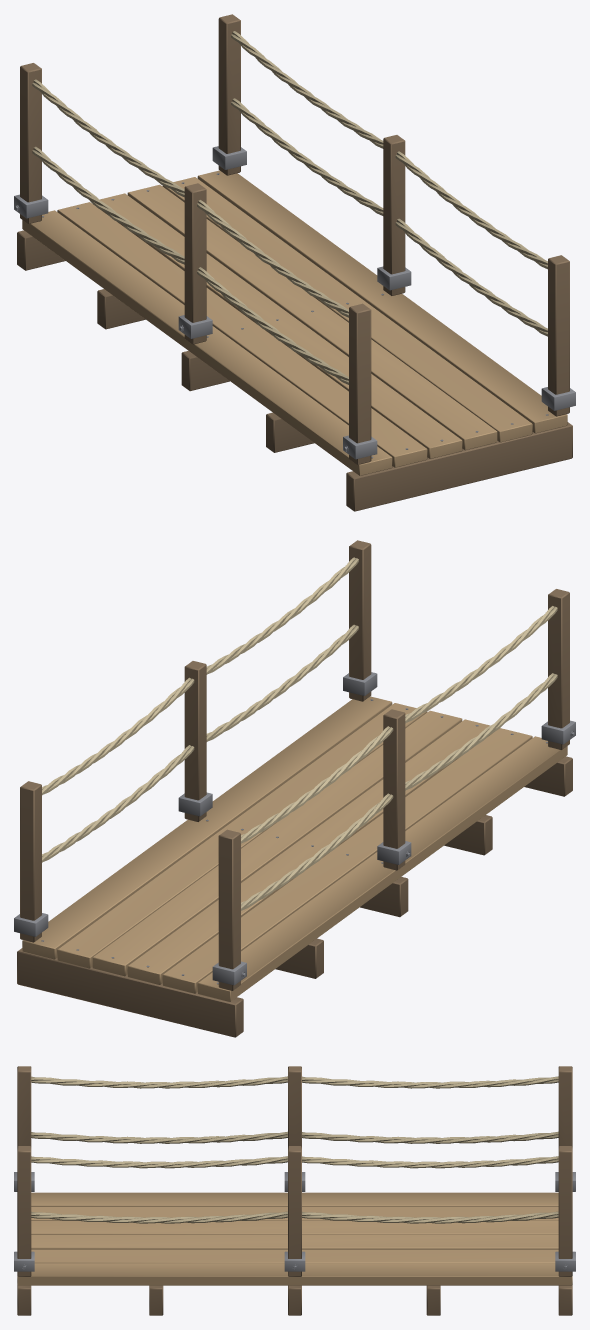
The model's file is rig_walkway_4m.glb.
3 renders of one model, top to bottom at view 1: azimuth 30°, elevation 25°; view 2: azimuth 150°, elevation 25°; view 3: azimuth 270°, elevation 25°, orthographic. The views are drawn at different scales.
Visible parts, largest first — view 1: rig_walkway_4m; view 2: rig_walkway_4m; view 3: rig_walkway_4m.
Part boxes in pixels (x1=…): rig_walkway_4m: x1=14, y1=14, x2=575, y2=511; rig_walkway_4m: x1=14, y1=540, x2=575, y2=1037; rig_walkway_4m: x1=14, y1=1066, x2=575, y2=1315.
Bounding box in the file's own units: 1.57 × 1.3 × 4.05.
